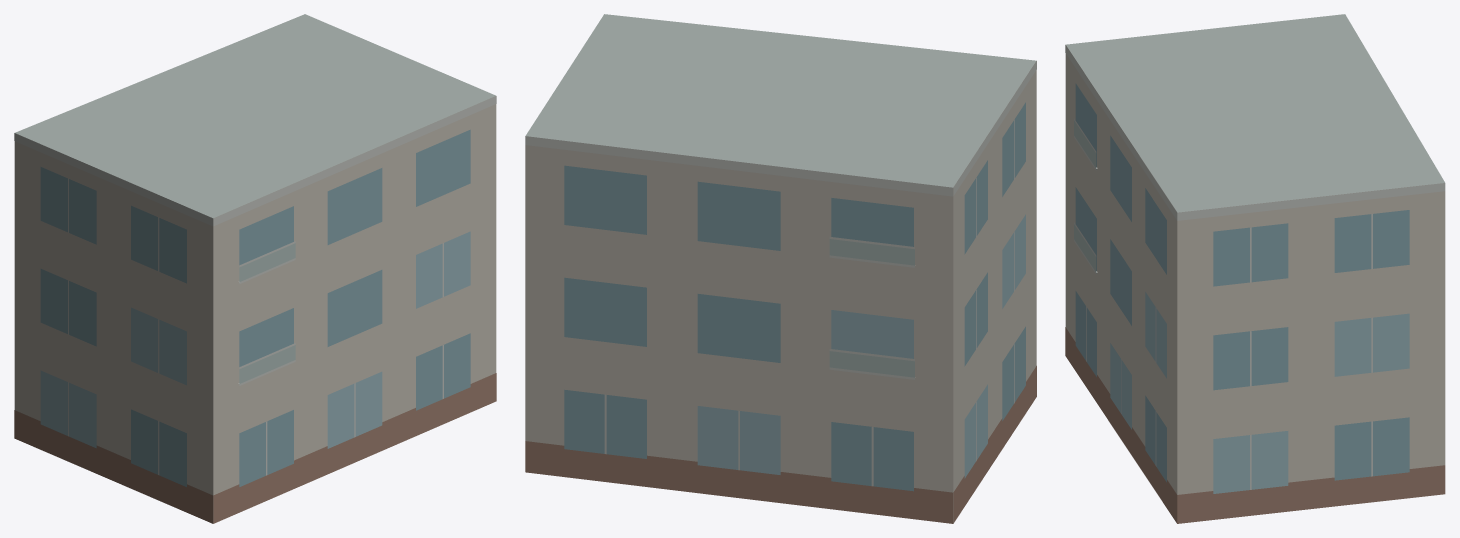
The model's file is survey-upis-32715890.glb.
The picture shows the model from 3 angles, left to right: view 1: azimuth 30°, elevation 25°; view 2: azimuth 150°, elevation 25°; view 3: azimuth 270°, elevation 25°; orthographic projection. The views are drawn at different scales.
Parts seen in each view (by area): view 1: survey-upis-32715890.tmp; view 2: survey-upis-32715890.tmp; view 3: survey-upis-32715890.tmp.
Boxes of the visible parts, x1,y1,x2,y2 form: survey-upis-32715890.tmp: (14, 14, 496, 523); survey-upis-32715890.tmp: (525, 14, 1036, 523); survey-upis-32715890.tmp: (1065, 14, 1445, 523).
Bounding box in the file's own units: 12.53 × 9.15 × 10.13.
